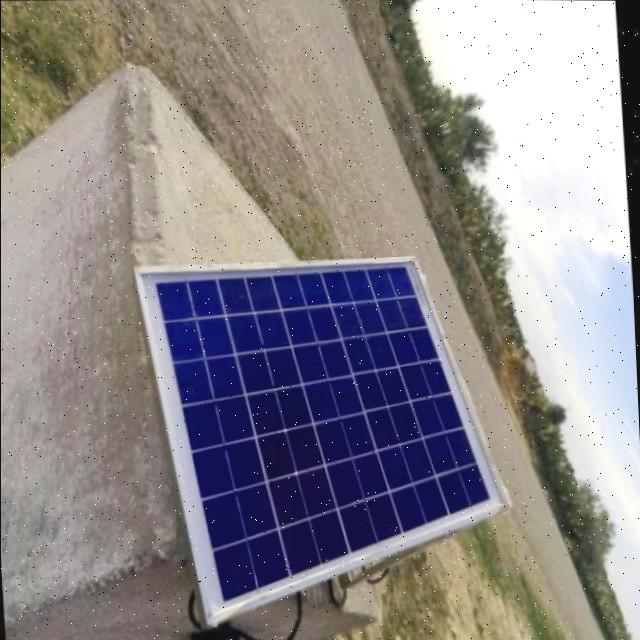Normal Solar Panel: (135, 255, 512, 627)
